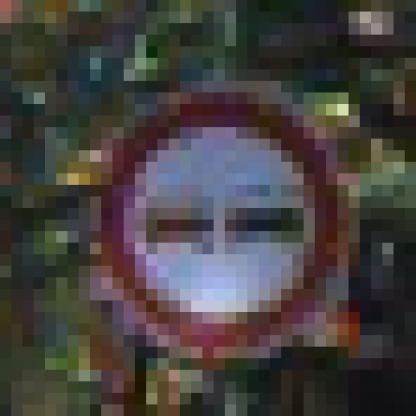No Overtaking: (69, 59, 350, 348)
